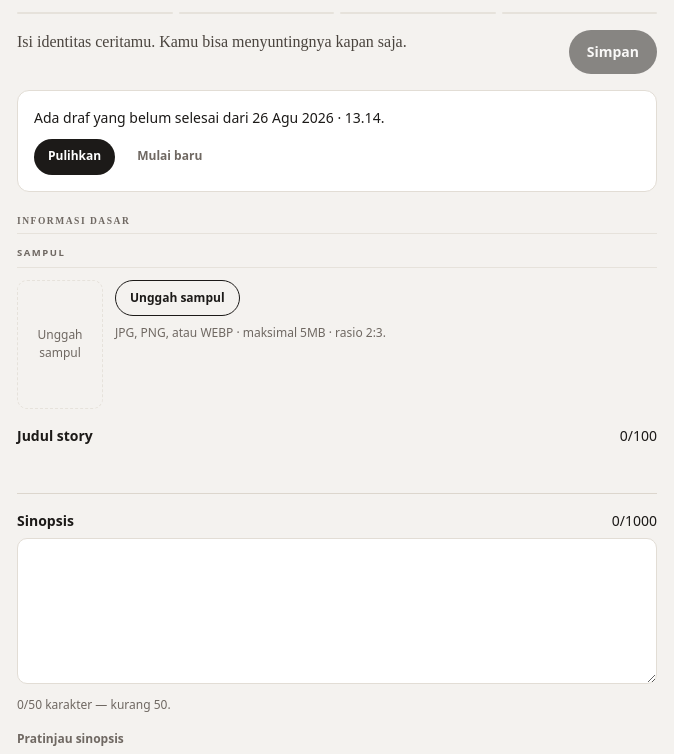
Test: pemulihan draf · FR-STUDIO-17 · FR-STUDIO-34 › kotak pemulihan menyebut kapan drafnya dibuat, dan benar-benar memulihkan isinya
Expected: the text "Ada draf yang belum selesai dari 26 Agu 2026 · 13.14." is shown, [34, 108, 384, 127]
What coordinates should you click on to do the following:
click the button "Pulihkan"
I would click on:
 (75, 157)
Its box is [34, 139, 115, 175].
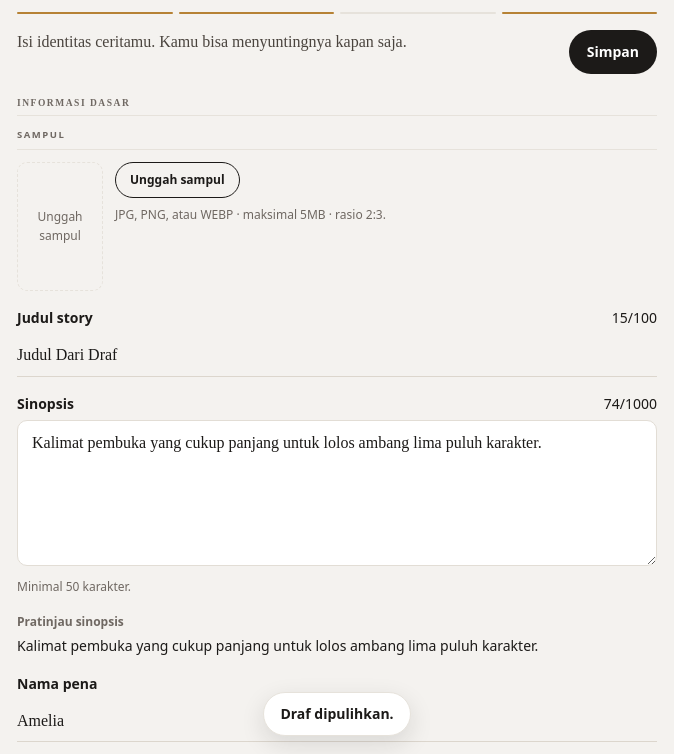
Result: the field labelled "Judul story" holds "Judul Dari Draf" at [17, 335, 657, 377]
